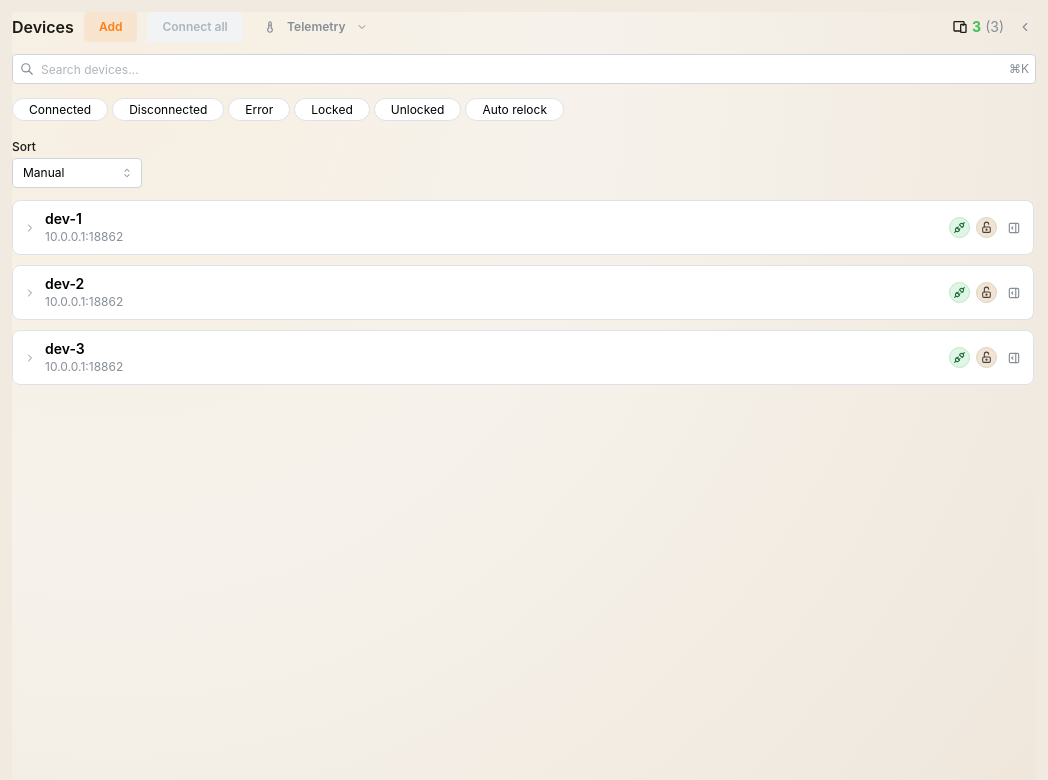
DeviceList fleet telemetry menu › does not offer a start when nothing is stopped
Click the button titled "Red Pitaya telemetry actions for every device" at (315,27), box [253, 12, 378, 42]
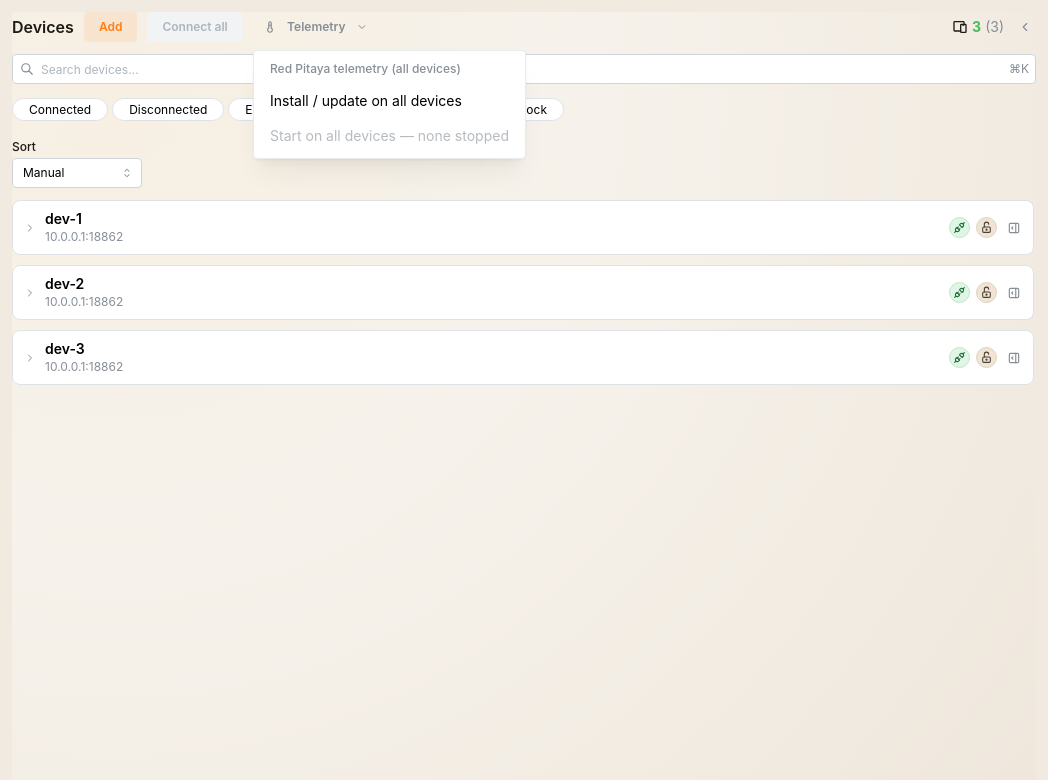
Expected: the menu item "Start on all devices — none stopped" is shown, [258, 119, 521, 154]
